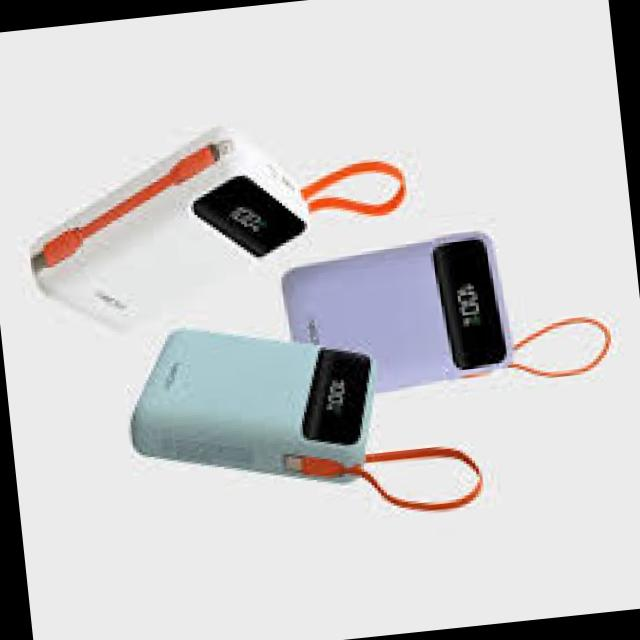portable-charger: (16, 124, 323, 338), (111, 300, 386, 504), (272, 220, 514, 416)
